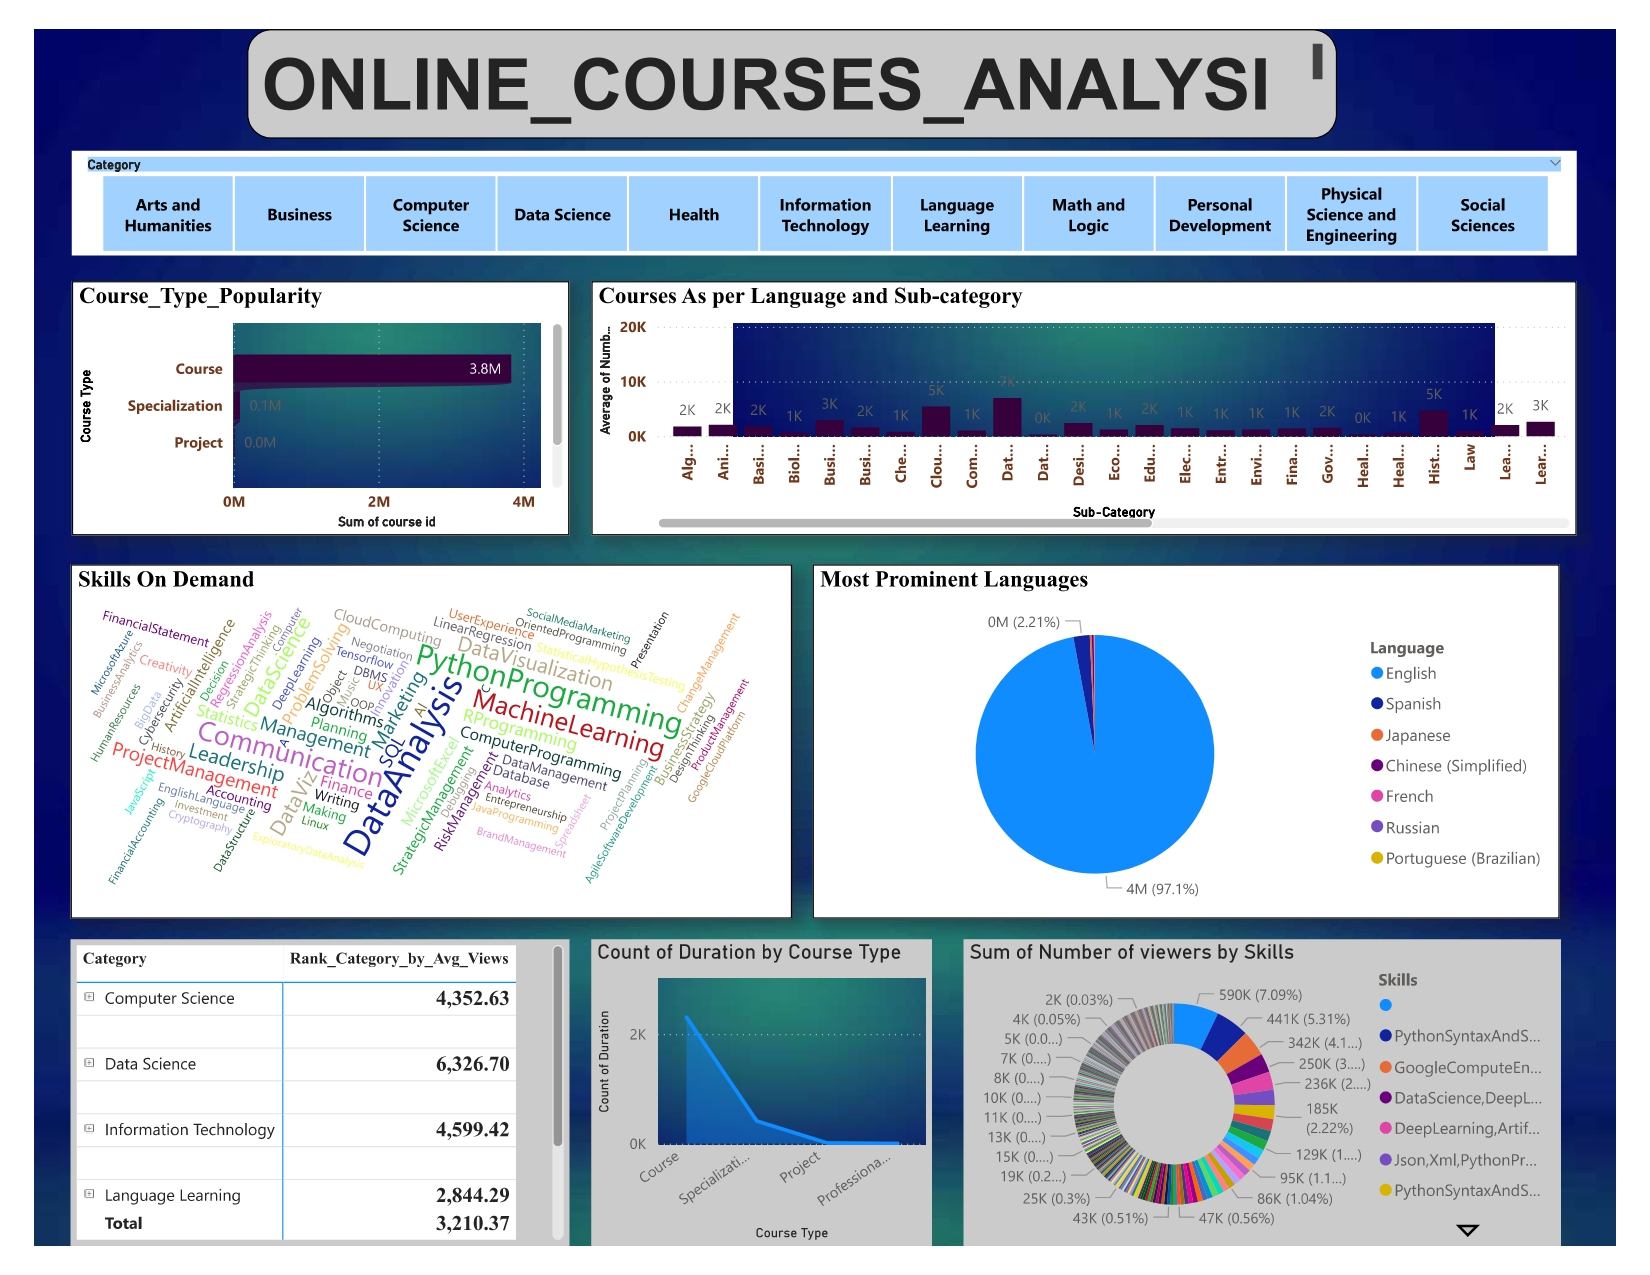

What the dashboard file says about the page in this screenshot:
{"tool":"powerbi","page":{"name":"Page 1","canvas":[1300,1000],"ordinal":0},"visuals":[{"type":"textbox","box":[174.6,0,896.5,89.8],"z":0},{"type":"slicer","fields":{"Values":["Online_Courses.Category"]},"box":[31.2,99.8,1236.9,86],"z":1000},{"type":"barChart","title":"Course_Type_Popularity","fields":{"Category":["Online_Courses.Course Type"],"Y":["Sum(Online_Courses.course id)"]},"box":[31.2,207,409,209.5],"z":2000},{"type":"clusteredColumnChart","title":"Courses As per Language and Sub-category","fields":{"Category":["Online_Courses.Sub-Category","Online_Courses.Language"],"Y":["Avg(Online_Courses.Number of viewers)"]},"box":[457.6,207,810.5,209.5],"z":3000},{"type":"WordCloud1447959067750","title":"Skills On Demand","fields":{"Category":["Online_Courses.Skills"]},"box":[29.9,440.1,593.5,290.5],"z":4000},{"type":"pieChart","title":"Most Prominent Languages","fields":{"Category":["Online_Courses.Language"],"Y":["Sum(Online_Courses.course id)"]},"box":[639.7,440.1,614.7,290.5],"z":5000},{"type":"pivotTable","fields":{"Rows":["Online_Courses.Category","Online_Courses.Language"],"Values":["Online_Courses.Rank_Category_by_Avg_Views"]},"box":[29.9,748.1,410.2,251.9],"z":6000},{"type":"stackedAreaChart","fields":{"Category":["Online_Courses.Course Type"],"Y":["CountNonNull(Online_Courses.Duration)"]},"box":[457.6,748.1,280.5,251.9],"z":7000},{"type":"donutChart","fields":{"Y":["Sum(Online_Courses.Number of viewers)"],"Category":["Online_Courses.Skills"]},"box":[764,748,491,252],"z":8000}]}

Visuals, with their boxes in screenshot pixels (x1, y1, x2, y2), scaled from the page's 1300x1000 canvas onto the 1650x1275 screenshot:
textbox: Rect(222, 0, 1359, 114)
slicer - Online_Courses.Category: Rect(40, 127, 1610, 237)
"Course_Type_Popularity" barChart: Rect(40, 264, 559, 531)
"Courses As per Language and Sub-category" clusteredColumnChart: Rect(581, 264, 1610, 531)
"Skills On Demand" WordCloud1447959067750: Rect(38, 561, 791, 932)
"Most Prominent Languages" pieChart: Rect(812, 561, 1592, 932)
pivotTable - Online_Courses.Category x Online_Courses.Language: Rect(38, 954, 559, 1274)
stackedAreaChart - Online_Courses.Course Type x CountNonNull(Online_Courses.Duration): Rect(581, 954, 937, 1274)
donutChart - Sum(Online_Courses.Number of viewers) x Online_Courses.Skills: Rect(970, 954, 1593, 1274)
